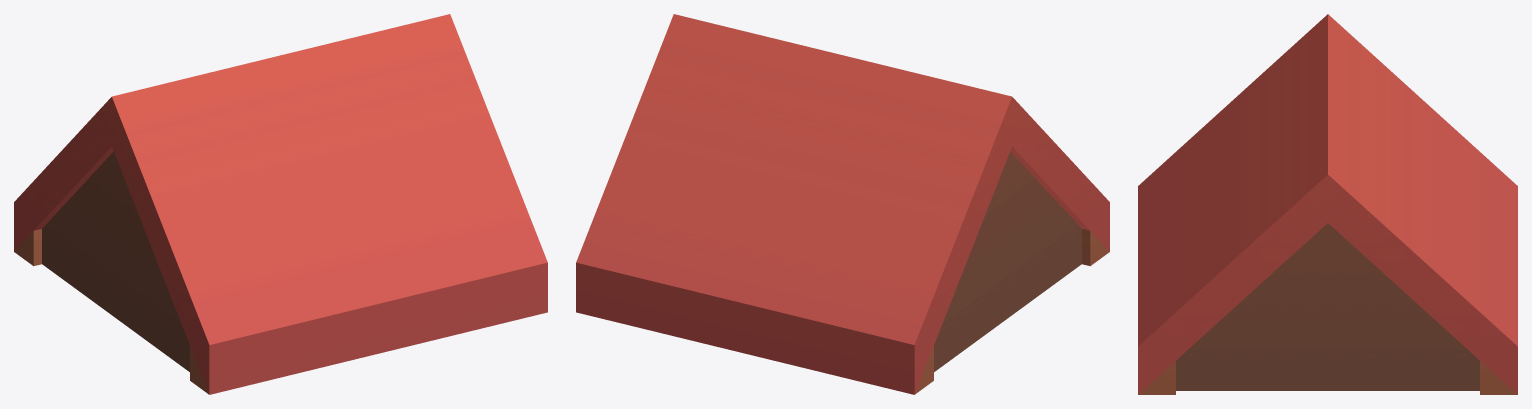
The model's file is roofHighGableTop.fbx.
3 views of the same model, side by side, from view 1: azimuth 30°, elevation 25°; view 2: azimuth 150°, elevation 25°; view 3: azimuth 270°, elevation 25° (orthographic). The views are drawn at different scales.
Parts seen in each view (by area): view 1: roofHighGableTop; view 2: roofHighGableTop; view 3: roofHighGableTop.
Part boxes in pixels (x1=…): roofHighGableTop: x1=14, y1=14, x2=547, y2=394; roofHighGableTop: x1=576, y1=14, x2=1109, y2=394; roofHighGableTop: x1=1138, y1=14, x2=1517, y2=394.
Bounding box in the file's own units: 1 × 1 × 0.6407.
